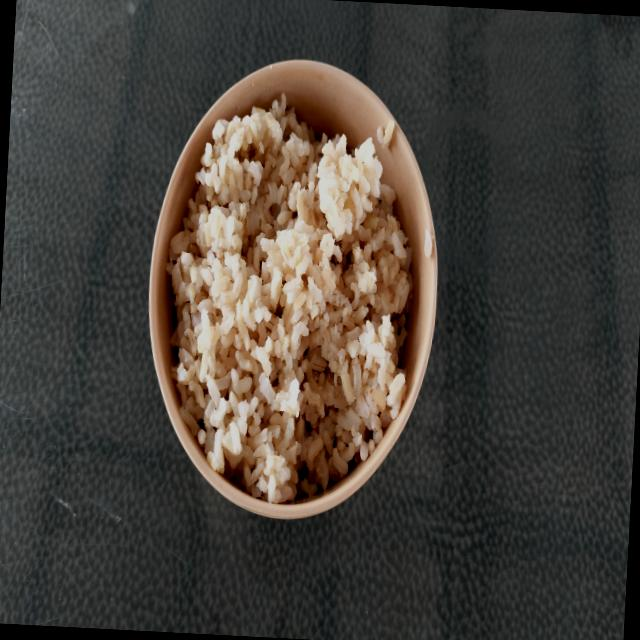brown-rice: (167, 95, 412, 504)
